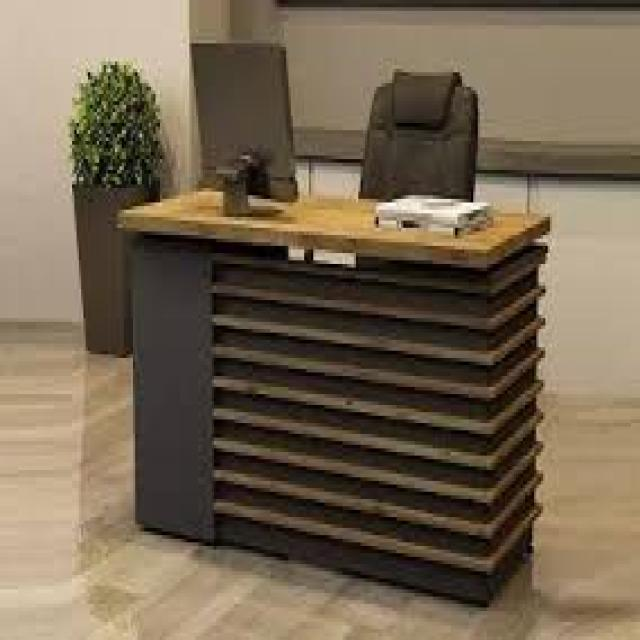obstacle: (92, 47, 594, 612)
